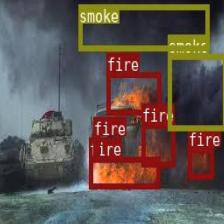fire: (106, 71, 160, 114), (89, 156, 159, 188), (141, 122, 174, 166), (188, 147, 213, 178), (92, 136, 99, 154)
smoke: (78, 4, 208, 50), (167, 53, 224, 129)
